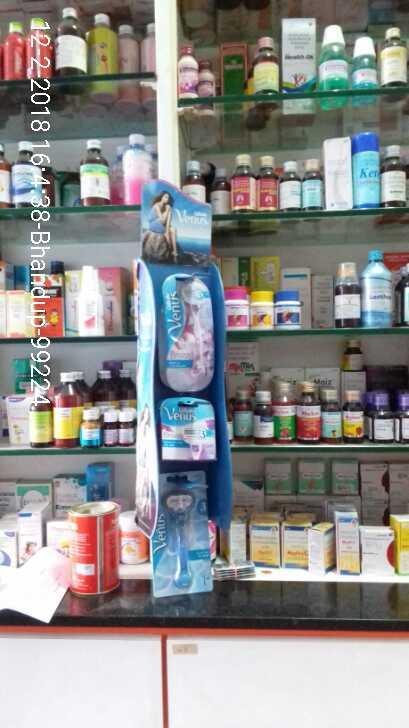beauty: (161, 273, 218, 394), (156, 473, 214, 591), (159, 399, 219, 459)
